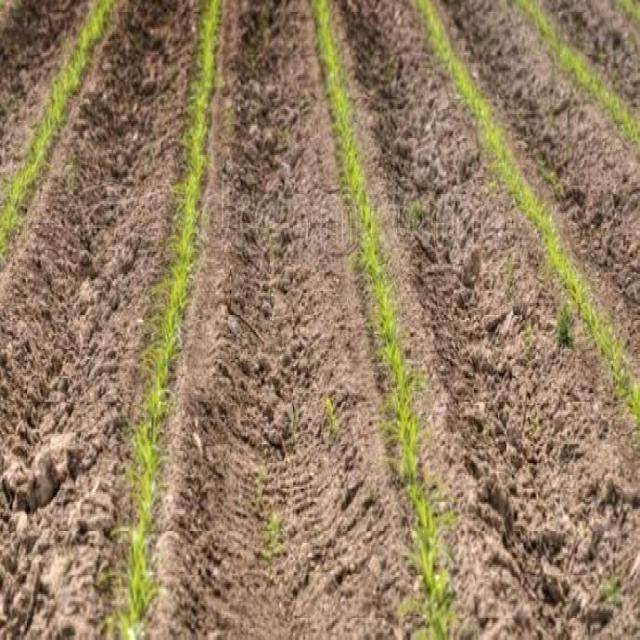row: (331, 0, 640, 640), (157, 0, 422, 640), (437, 0, 640, 381), (546, 0, 640, 120)
